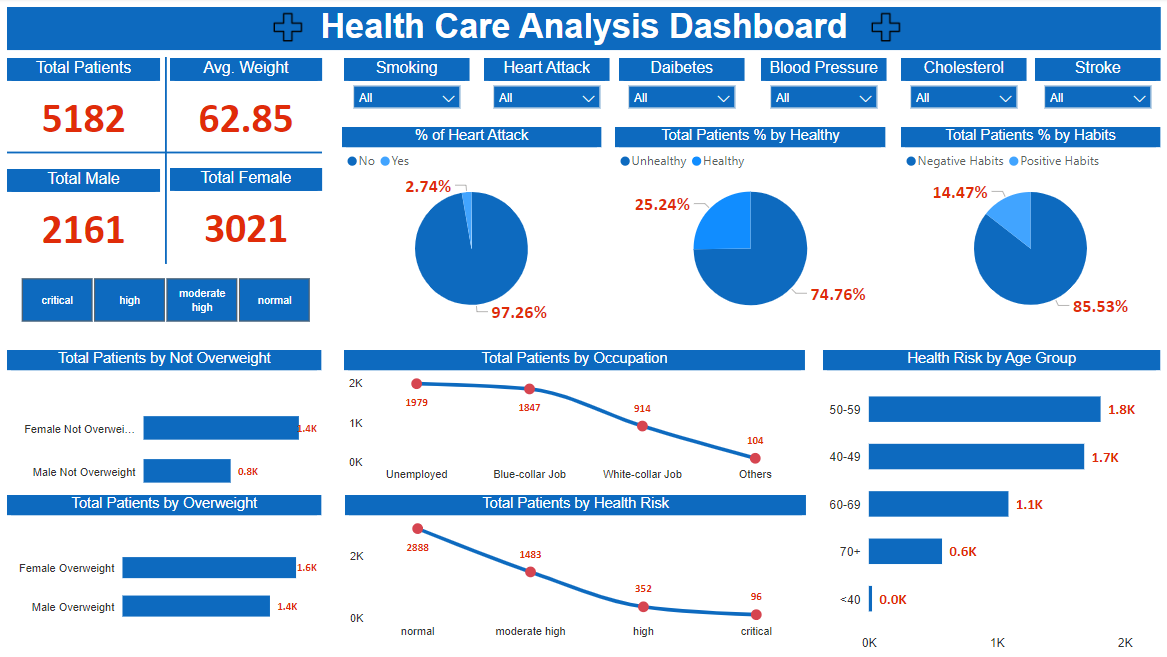

What the dashboard file says about the page in this screenshot:
{"tool":"powerbi","page":{"name":"Page 1","canvas":[1280,720],"ordinal":0},"visuals":[{"type":"card","title":"Total Patients","fields":{"Values":["CountNonNull(Table1.Gender)"]},"box":[9.8,65.5,167,103.7],"z":0},{"type":"card","title":"Total Female","fields":{"Values":["CountNonNull(Table1.Gender)"]},"box":[187.7,185.5,165.9,104.8],"z":1},{"type":"card","title":"Total Male","fields":{"Values":["CountNonNull(Table1.Gender)"]},"box":[9.8,186.6,167,103.7],"z":2},{"type":"card","title":"Avg. Weight","fields":{"Values":["Avg(Table1.Weight)"]},"box":[187.7,65.5,165.9,103.7],"z":6},{"type":"actionButton","title":"Health Care Analysis Dashboard","box":[10.3,10.3,1259.4,54.2],"z":7},{"type":"image","box":[942.9,10.9,52.8,41.9],"z":8},{"type":"image","box":[290.5,10.9,52.8,41.9],"z":10},{"type":"shape","box":[9.8,162.6,343.7,12],"z":11},{"type":"shape","box":[176.8,64.5,12.9,225.8],"z":12},{"type":"slicer","title":"Smoking","fields":{"Values":["Table1.Smoking"]},"box":[378.1,65.8,136.8,71],"z":13},{"type":"slicer","title":"Heart Attack","fields":{"Values":["Table1.HeartAttack"]},"box":[530.3,65.8,136.8,71],"z":14},{"type":"slicer","fields":{"Values":["Table1.healthRisk"]},"box":[0,299,364.5,61.1],"z":15},{"type":"slicer","title":"Daibetes","fields":{"Values":["Table1.Diabetes"]},"box":[677.4,65.8,136.8,71],"z":16},{"type":"slicer","title":"Stroke","fields":{"Values":["Table1.Stroke"]},"box":[1131.6,65.8,136.8,71],"z":17},{"type":"slicer","title":"Blood Pressure","fields":{"Values":["Table1.BloodPressure"]},"box":[832.3,65.8,136.8,71],"z":18},{"type":"slicer","title":"Cholesterol","fields":{"Values":["Table1.Cholesterol"]},"box":[985.8,65.8,136.8,71],"z":19},{"type":"pieChart","title":"% of Heart Attack ","fields":{"Category":["Table1.HeartAttack"],"Y":["CountNonNull(Table1.HeartAttack)"]},"box":[375.5,140.6,282.6,219.4],"z":20},{"type":"barChart","title":"Health Risk by Age Group","fields":{"Category":["Table1.AgeGrp"],"Y":["CountNonNull(Table1.healthRisk)"]},"box":[900.3,384.1,367.7,336.1],"z":21},{"type":"lineChart","title":"Total Patients by Occupation","fields":{"Category":["Table1.OccupationType"],"Y":["Table1.Total Pateints"]},"box":[377.6,384.1,503.1,151.7],"z":22},{"type":"pieChart","title":"Total Patients % by Healthy","fields":{"Category":["Table1.Healthy"],"Y":["Table1.Total Pateints"]},"box":[673.5,140.6,295.5,219.4],"z":23},{"type":"pieChart","title":"Total Patients % by Habits","fields":{"Y":["Table1.Total Patients"],"Category":["Table1.Habits"]},"box":[985.8,140.6,282.6,219.4],"z":24},{"type":"barChart","title":"Total Patients by Not Overweight","fields":{"Y":["Table1.Total Patients"],"Category":["Table1.Overweight"]},"box":[10.3,384.5,343.2,194.8],"z":25},{"type":"barChart","fields":{"Y":["Table1.Total Patients"],"Category":["Table1.Overweight"]},"box":[10.3,541.9,343.2,178.1],"z":26},{"type":"lineChart","title":"Total Patients by Health Risk","fields":{"Y":["Table1.Total Pateints"],"Category":["Table1.healthRisk"]},"box":[378.3,542.6,503.1,164.3],"z":27}]}

Visuals, with their boxes in screenshot pixels (x1, y1, x2, y2), scaled from the page's 1280x720 canvas onto the 1167x657 screenshot:
"Total Patients" card: (left=9, top=60, right=161, bottom=154)
"Total Female" card: (left=171, top=169, right=322, bottom=265)
"Total Male" card: (left=9, top=170, right=161, bottom=265)
"Avg. Weight" card: (left=171, top=60, right=322, bottom=154)
"Health Care Analysis Dashboard" actionButton: (left=9, top=9, right=1158, bottom=59)
image: (left=860, top=10, right=908, bottom=48)
image: (left=265, top=10, right=313, bottom=48)
shape: (left=9, top=148, right=322, bottom=159)
shape: (left=161, top=59, right=173, bottom=265)
"Smoking" slicer: (left=345, top=60, right=469, bottom=125)
"Heart Attack" slicer: (left=483, top=60, right=608, bottom=125)
slicer - Table1.healthRisk: (left=0, top=273, right=332, bottom=329)
"Daibetes" slicer: (left=618, top=60, right=742, bottom=125)
"Stroke" slicer: (left=1032, top=60, right=1156, bottom=125)
"Blood Pressure" slicer: (left=759, top=60, right=884, bottom=125)
"Cholesterol" slicer: (left=899, top=60, right=1023, bottom=125)
"% of Heart Attack " pieChart: (left=342, top=128, right=600, bottom=328)
"Health Risk by Age Group" barChart: (left=821, top=350, right=1156, bottom=656)
"Total Patients by Occupation" lineChart: (left=344, top=350, right=803, bottom=489)
"Total Patients % by Healthy" pieChart: (left=614, top=128, right=883, bottom=328)
"Total Patients % by Habits" pieChart: (left=899, top=128, right=1156, bottom=328)
"Total Patients by Not Overweight" barChart: (left=9, top=351, right=322, bottom=529)
barChart - Table1.Total Patients x Table1.Overweight: (left=9, top=494, right=322, bottom=656)
"Total Patients by Health Risk" lineChart: (left=345, top=495, right=804, bottom=645)
